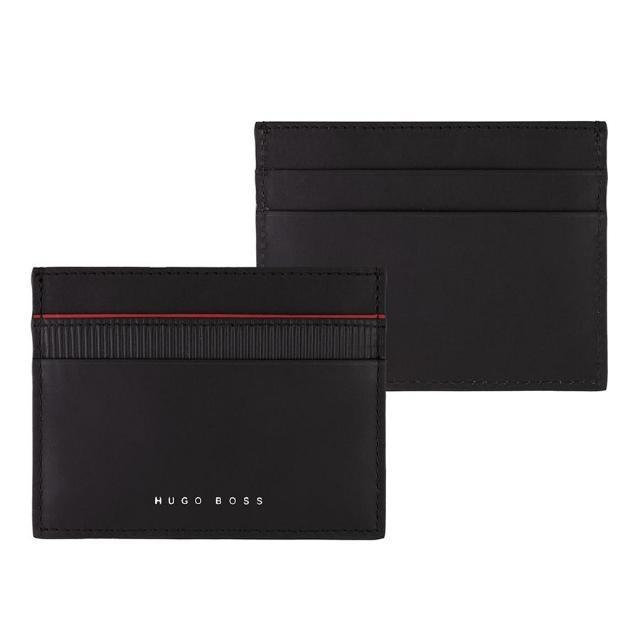Wallet: (35, 264, 385, 542), (256, 120, 606, 388)
